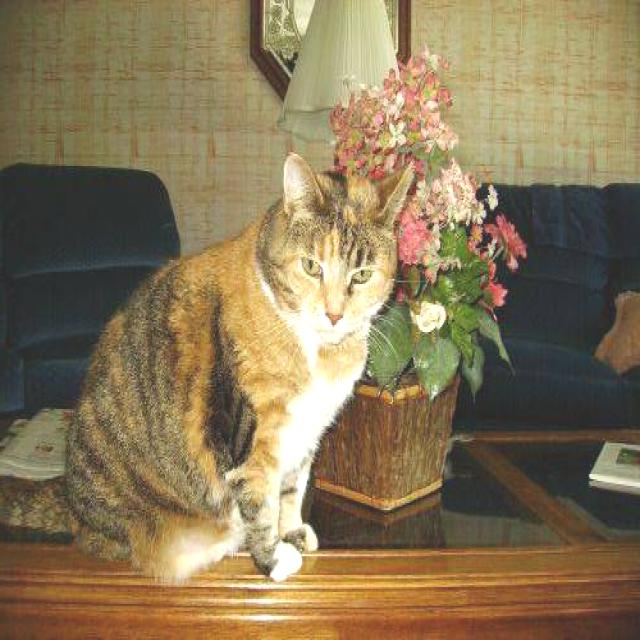Kucing: (32, 141, 426, 605)
